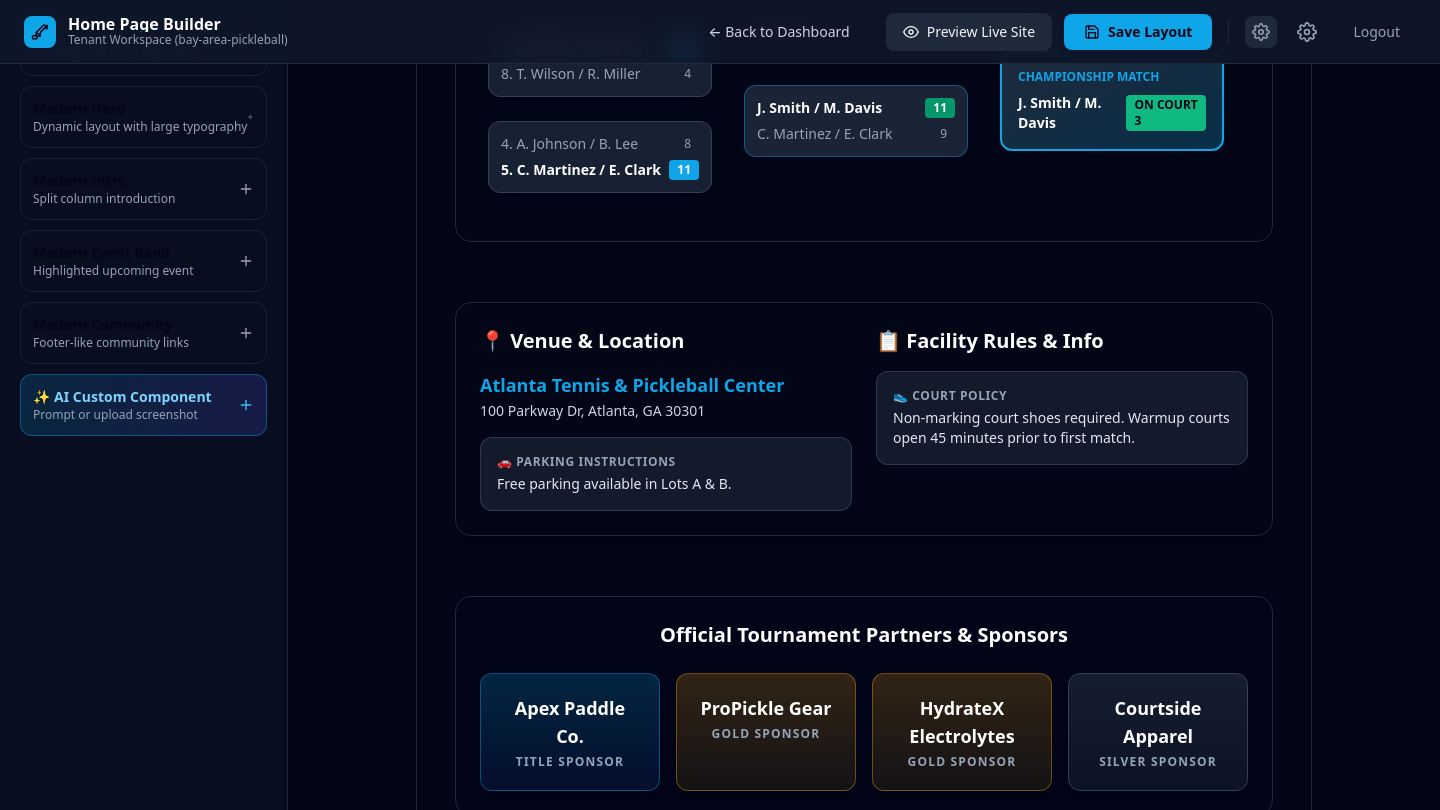
Scenario: BuilderClient › adds an AI Custom Component from sidebar
This screenshot has width=1440, height=810.
(page scrolled)
Click the button "✨ AI Custom Component". click: (144, 405)
box: [20, 374, 267, 436]
(page scrolled)
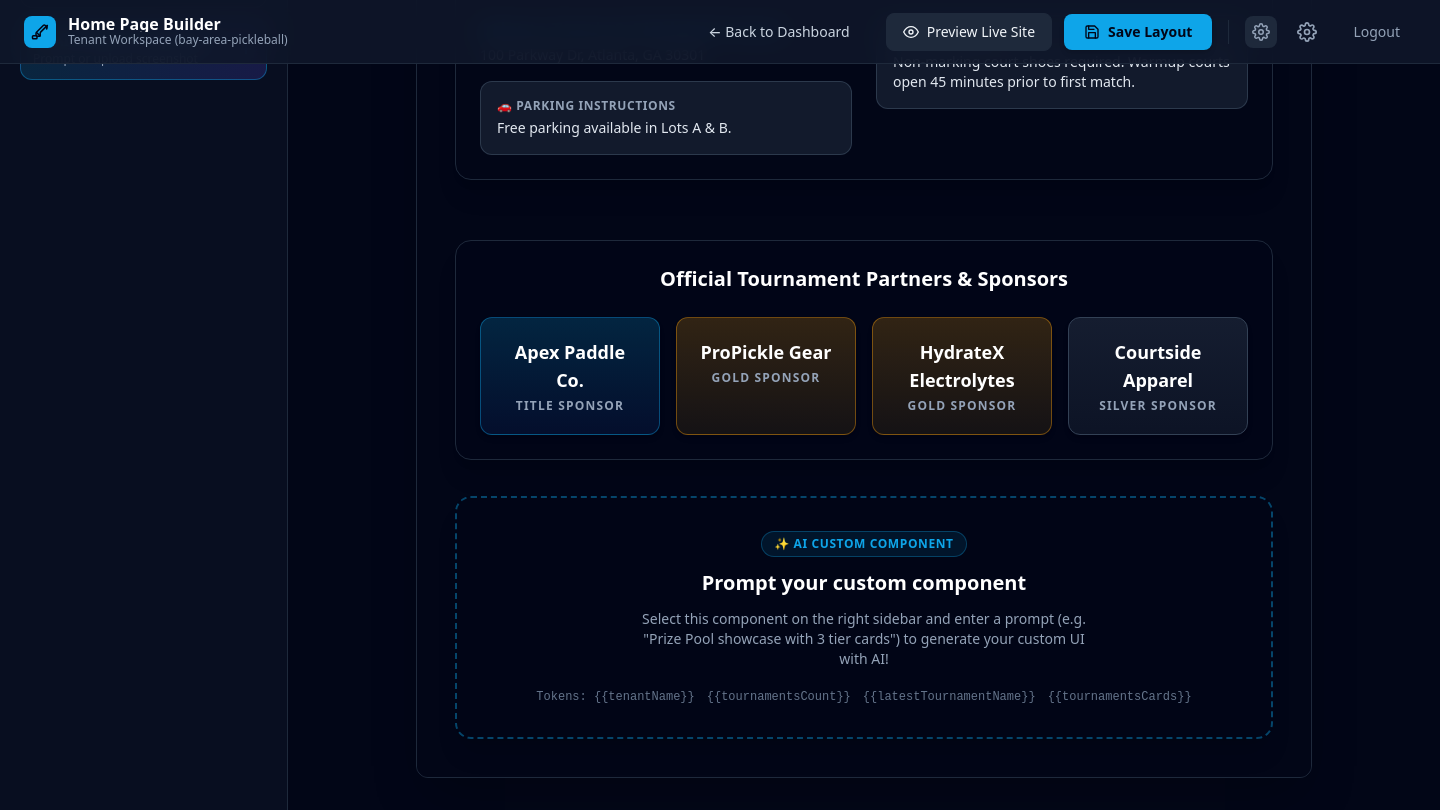
Now the heading "Prompt your custom component" is shown, box [702, 569, 1026, 596]
